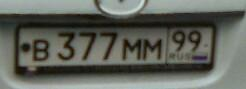license-plateSW: (15, 26, 219, 65)
